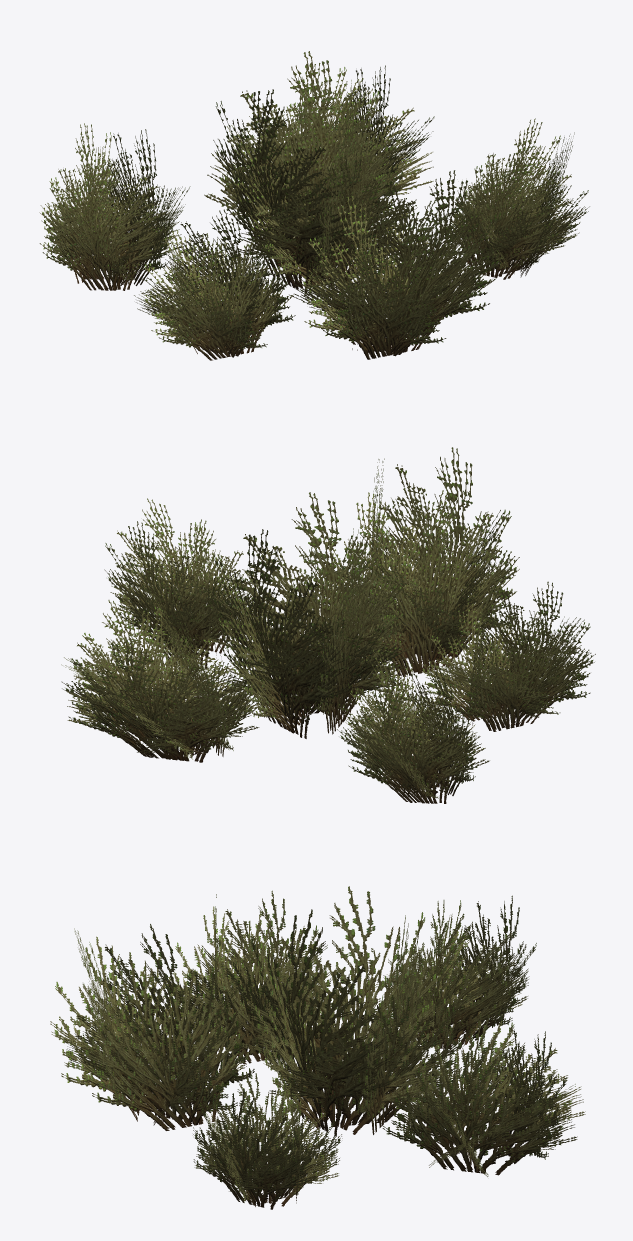
Rendered from GM_guanmu001_001.FBX.
3 renders of one model, top to bottom at view 1: azimuth 30°, elevation 25°; view 2: azimuth 150°, elevation 25°; view 3: azimuth 270°, elevation 25°, orthographic. The views are drawn at different scales.
Visible parts, largest first — view 1: GM_巴陵灌木001_001; view 2: GM_巴陵灌木001_001; view 3: GM_巴陵灌木001_001.
Boxes of the visible parts, x1=… form: GM_巴陵灌木001_001: x1=39, y1=51, x2=589, y2=360; GM_巴陵灌木001_001: x1=61, y1=447, x2=595, y2=803; GM_巴陵灌木001_001: x1=50, y1=886, x2=585, y2=1209.
Bounding box in the file's own units: 416 × 171 × 413.
